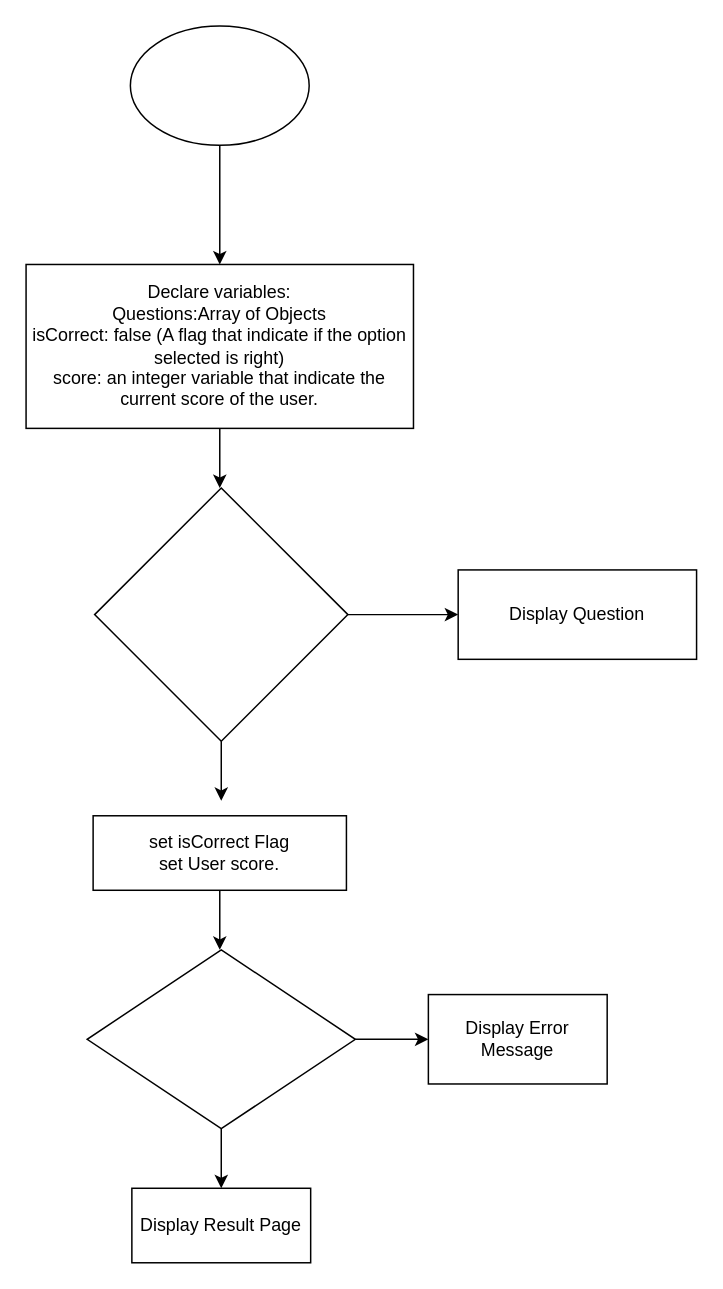
This 723x1289 diagram has some shape labels left out. Here are the shapes that lost their labels. From the top down, the centre of each, then its label:
At [219,85]: "start".
At [220,613]: "Is option selected ?".
At [220,1038]: "last question is answered ?".
